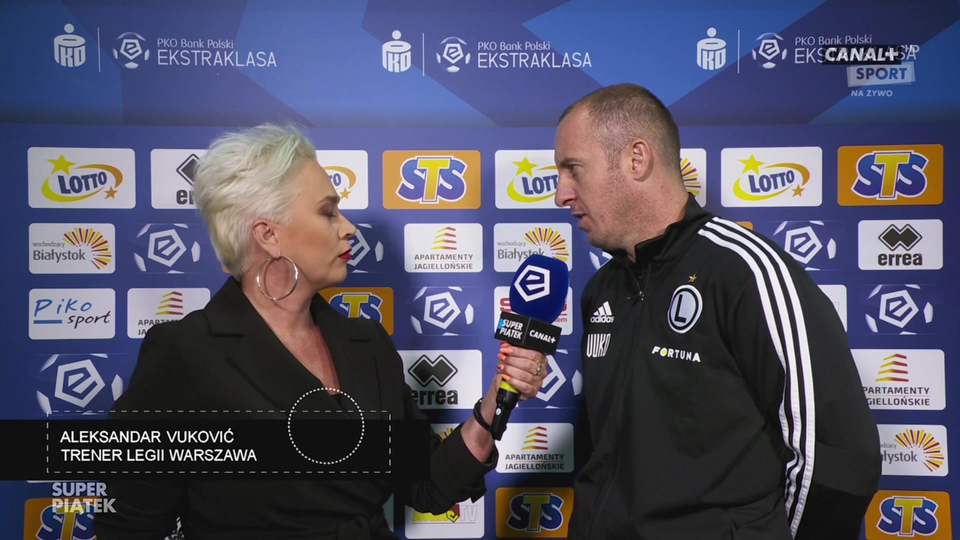pko: (49, 23, 91, 69), (378, 29, 415, 76), (691, 27, 731, 70)
